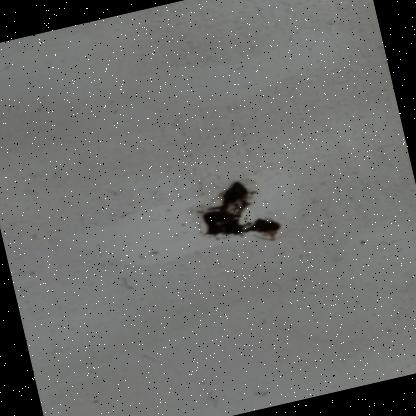Crack: (163, 155, 316, 282)
